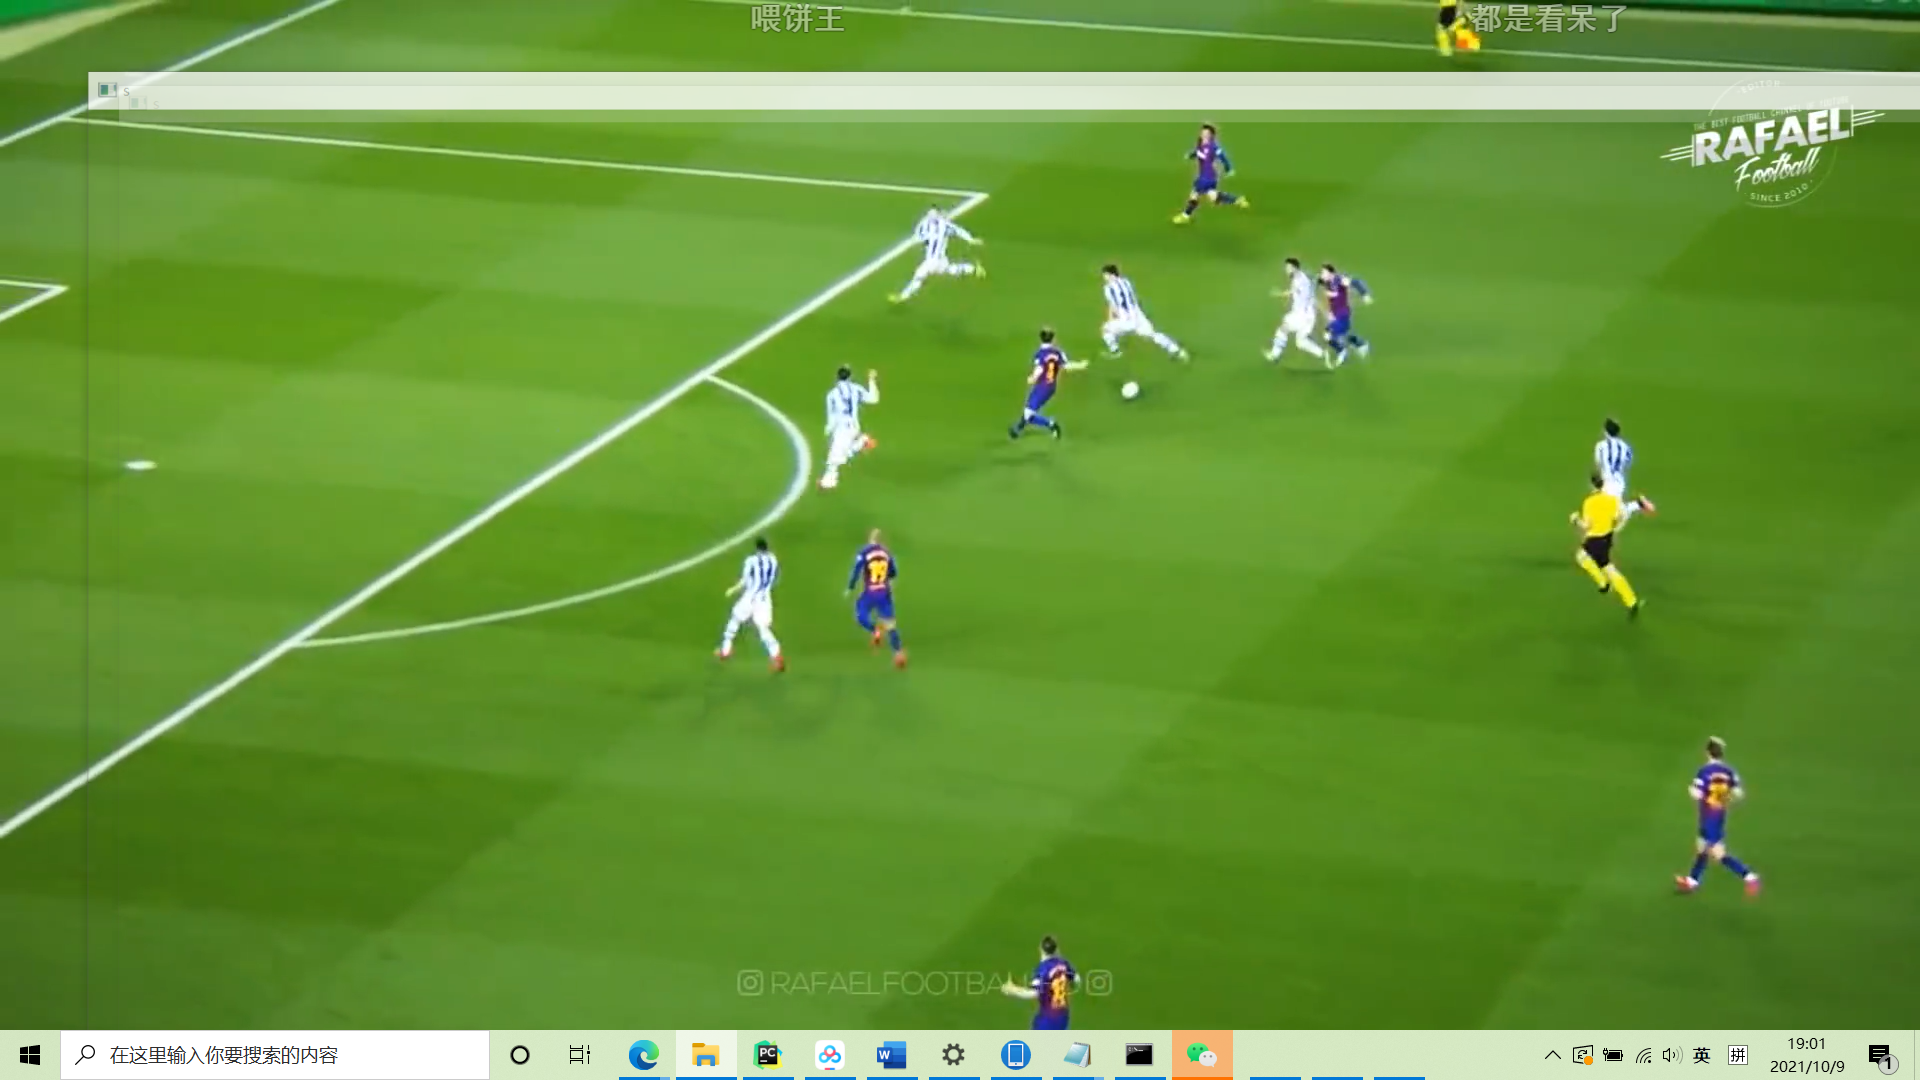ft: (1116, 378, 1143, 404)
